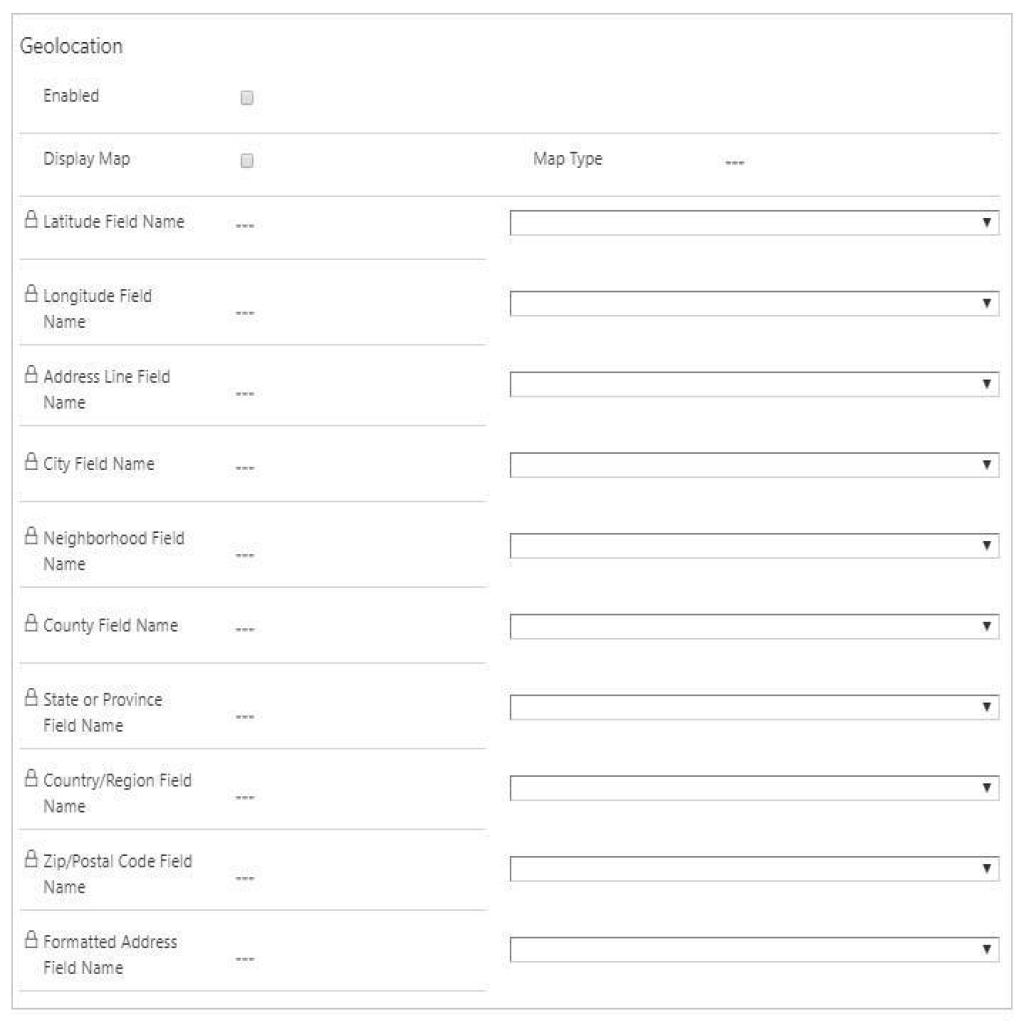checkbox: (238, 154, 256, 170), (241, 90, 255, 106)
dropdown: (510, 208, 1000, 238), (511, 533, 1000, 562), (510, 935, 998, 964), (513, 696, 997, 724), (510, 370, 1000, 397), (510, 450, 1000, 476), (510, 291, 1000, 315), (510, 860, 1000, 884), (511, 779, 1000, 801), (510, 617, 1004, 636)
icon: (235, 707, 261, 730), (232, 300, 256, 324), (22, 204, 42, 232), (234, 543, 259, 565), (235, 945, 256, 971), (18, 278, 40, 302), (725, 152, 749, 174), (235, 460, 261, 480), (21, 764, 40, 790), (232, 622, 259, 640), (235, 216, 256, 239), (235, 869, 258, 890), (235, 792, 259, 812), (21, 449, 40, 473), (21, 686, 43, 706), (22, 928, 42, 950), (235, 388, 258, 406), (24, 848, 40, 871), (26, 616, 40, 634), (26, 364, 36, 384), (26, 526, 36, 546)
label: (40, 846, 199, 902), (40, 525, 192, 577), (40, 767, 198, 817), (40, 363, 174, 415), (40, 932, 182, 980), (41, 686, 167, 736), (40, 283, 158, 336), (40, 610, 188, 640), (41, 449, 164, 478), (43, 213, 189, 234), (18, 36, 126, 60), (36, 146, 140, 170), (527, 146, 615, 174), (40, 86, 112, 106)
